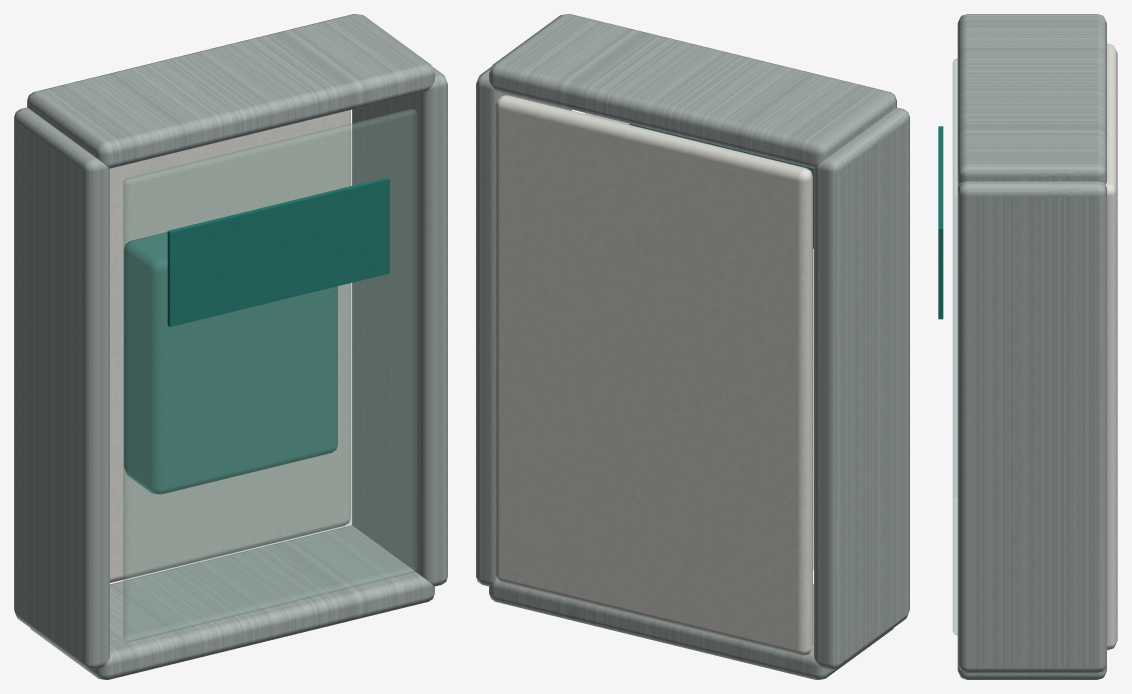
Rendered from detail-aed-0.glb.
3 renders of one model, left to right at view 1: azimuth 30°, elevation 25°; view 2: azimuth 150°, elevation 25°; view 3: azimuth 270°, elevation 25°, orthographic. The views are drawn at different scales.
Visible parts, largest first — view 1: glass, frame_side (×2), frame_rail (×2), panel_back, aed_unit, label_safety; view 2: panel_back, frame_side (×2), frame_rail (×2), glass; view 3: frame_side, frame_rail (×2), panel_back, glass, label_safety.
Boxes of the visible parts, x1,y1,x2,y2 form: glass: (123, 109, 416, 641); frame_side (×2): (14, 66, 447, 669); frame_rail (×2): (27, 14, 434, 679); panel_back: (110, 110, 350, 582); aed_unit: (124, 232, 337, 494); label_safety: (167, 177, 389, 326); panel_back: (495, 95, 812, 655); frame_side (×2): (476, 66, 909, 669); frame_rail (×2): (489, 14, 896, 679); glass: (585, 113, 813, 570); frame_side: (957, 181, 1106, 672); frame_rail (×2): (957, 14, 1106, 679); panel_back: (1105, 43, 1117, 650); glass: (953, 58, 958, 635); label_safety: (938, 126, 943, 319).
Bounding box in the file's own units: 0.485 × 0.685 × 0.2155.
4 materials, 3 textured.
